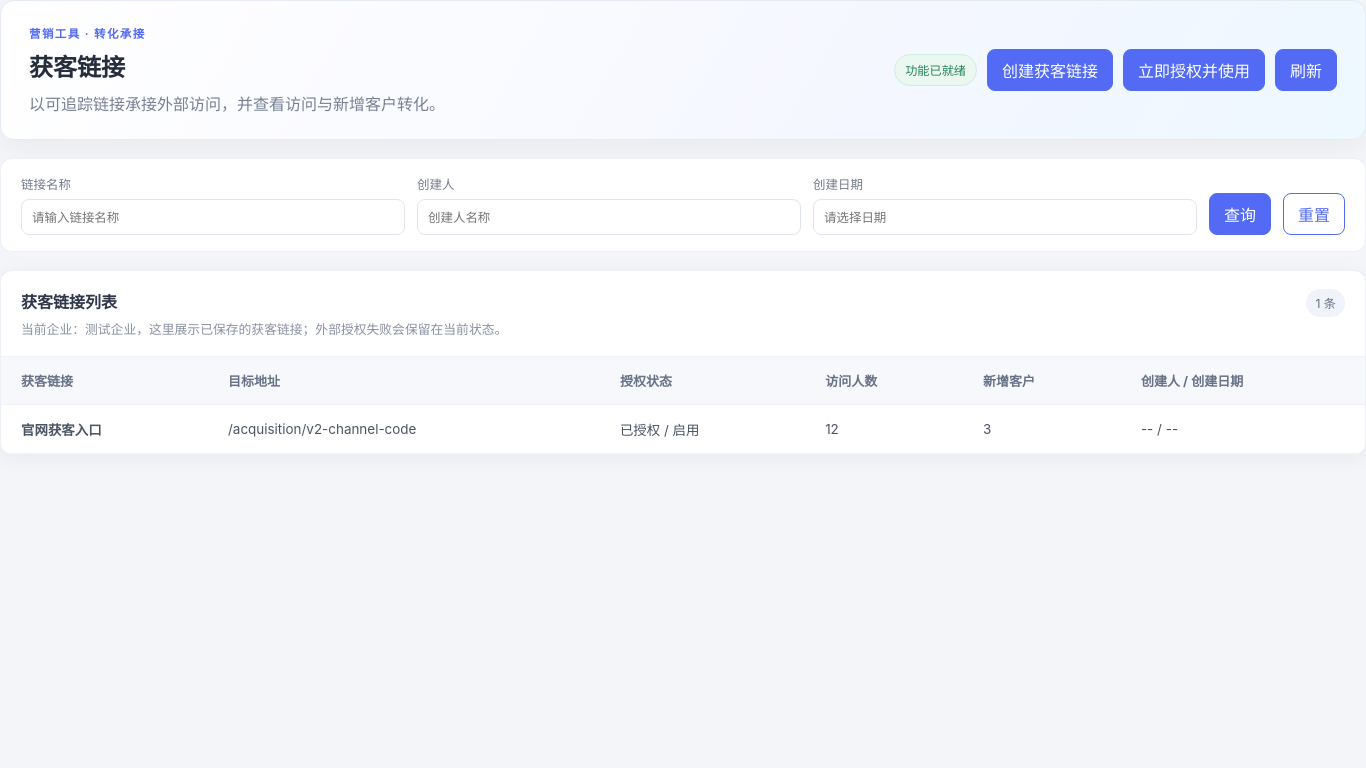
Test case: Phase 3.4 conversion pages › loads persisted acquisition links and creates one through the provider
Later steps or results of the test are not shown.
Expected: the text "官网获客入口" is shown, [21,422,102,438]
Click the button "创建获客链接" at (1050, 70), box [987,49,1113,91]
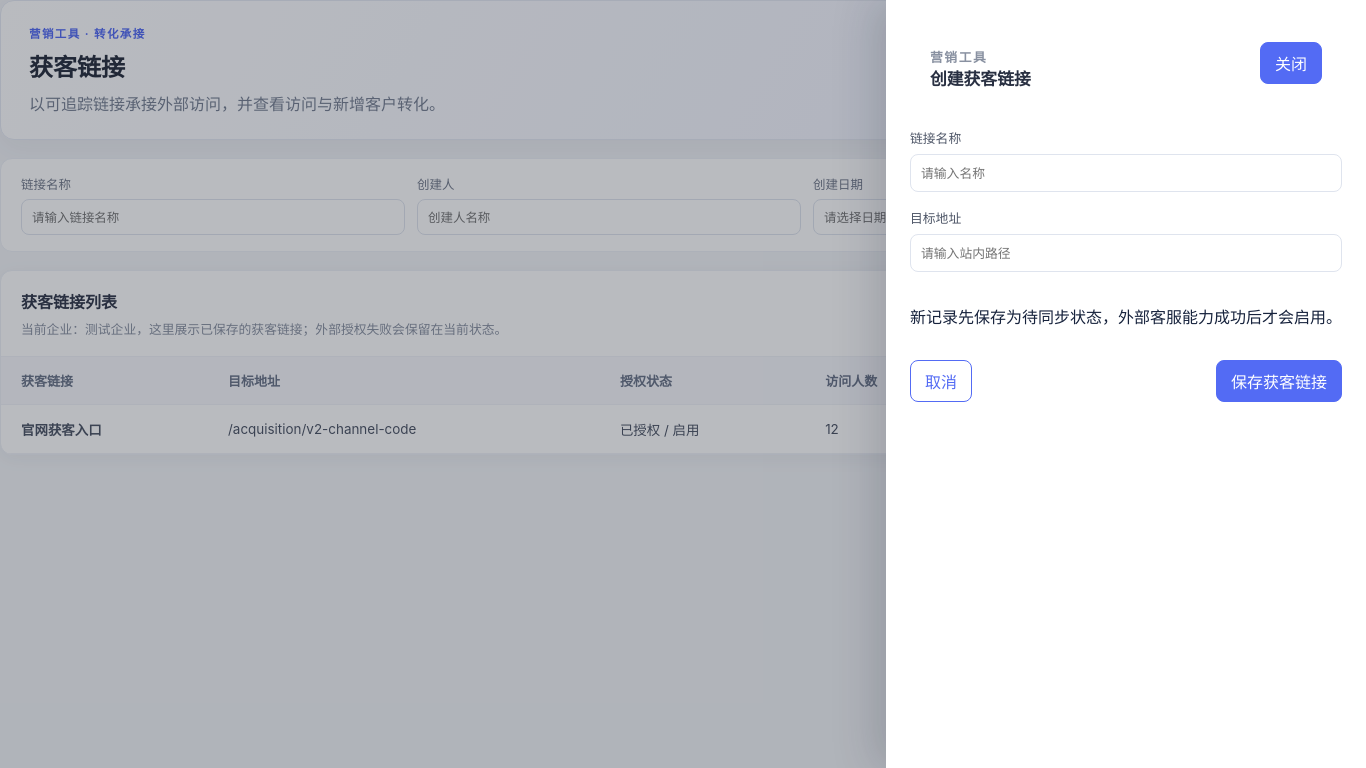
Now the element labelled "创建获客链接" is shown
